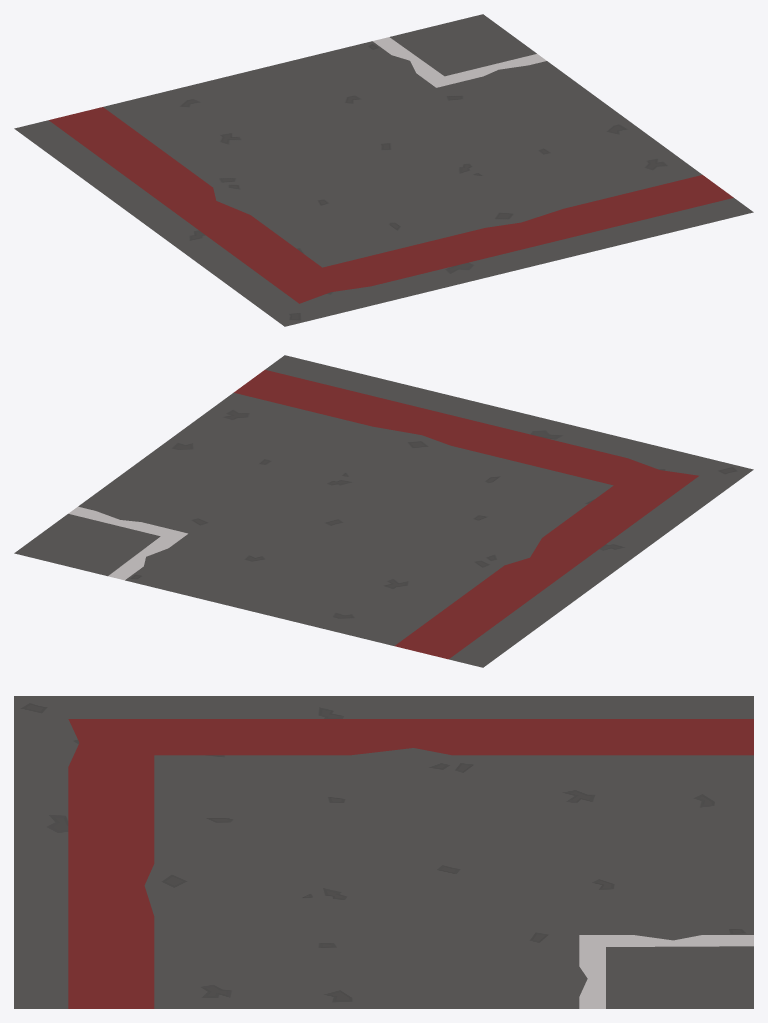
Rendered from SM_Env_Ground_Lines_Edge_Corner_03.fbx.
The picture shows the model from 3 angles, top to bottom: view 1: azimuth 30°, elevation 25°; view 2: azimuth 150°, elevation 25°; view 3: azimuth 270°, elevation 25°; orthographic projection. The views are drawn at different scales.
Visible parts, largest first — view 1: SM_Env_Ground_Lines_Edge_Corner_03; view 2: SM_Env_Ground_Lines_Edge_Corner_03; view 3: SM_Env_Ground_Lines_Edge_Corner_03.
Boxes of the visible parts, x1,y1,x2,y2 form: SM_Env_Ground_Lines_Edge_Corner_03: (14, 14, 753, 326); SM_Env_Ground_Lines_Edge_Corner_03: (14, 355, 753, 667); SM_Env_Ground_Lines_Edge_Corner_03: (14, 696, 753, 1008).
Size of the model in its own units: 1000 by 1.82e-12 by 1000.
